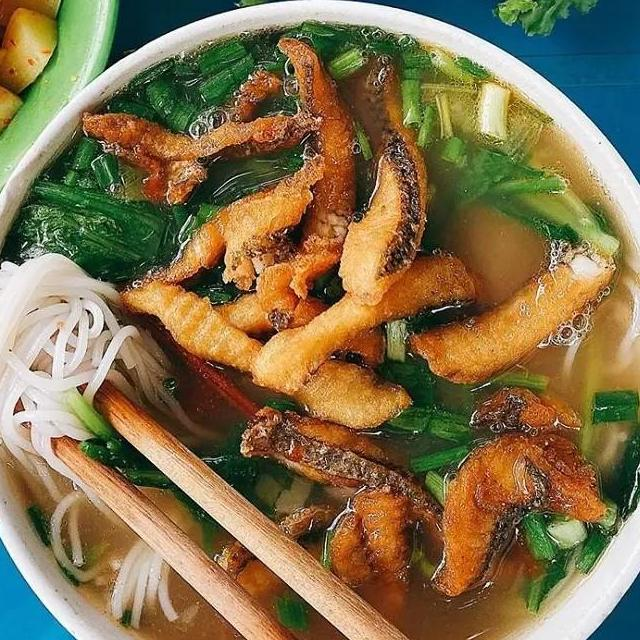bun: (0, 243, 203, 640)
bun ca: (0, 29, 640, 640)
ca: (117, 274, 436, 436), (232, 397, 470, 570), (402, 225, 630, 396), (416, 432, 618, 612), (262, 32, 372, 310), (330, 35, 440, 308), (75, 100, 342, 208)
